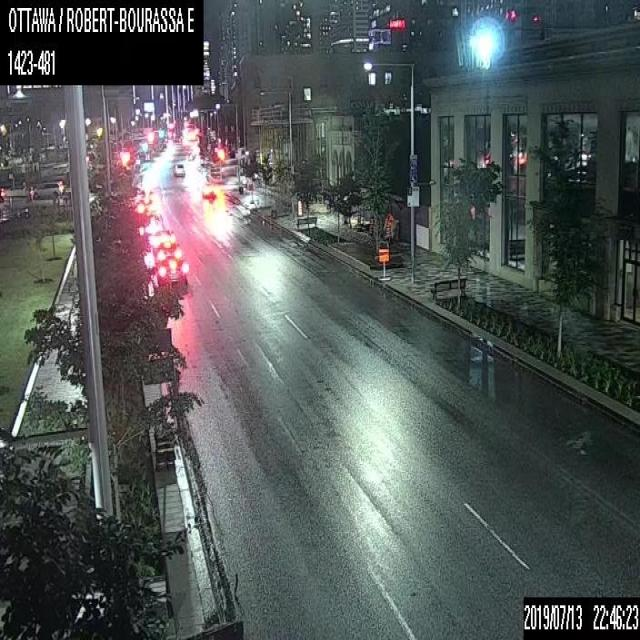construction: (376, 247, 391, 280), (384, 214, 394, 240), (297, 200, 302, 216)
vehicle: (156, 255, 187, 292), (28, 179, 64, 200), (156, 241, 182, 264), (152, 228, 174, 252), (142, 207, 162, 233), (202, 183, 215, 199), (173, 160, 185, 177)
